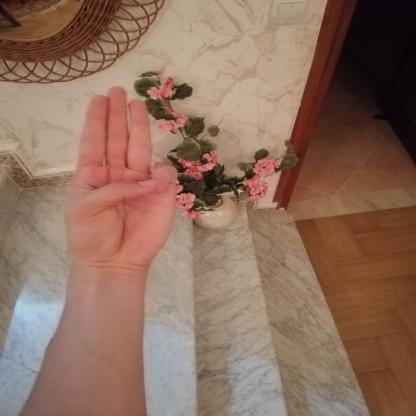THA: (51, 77, 188, 278)
